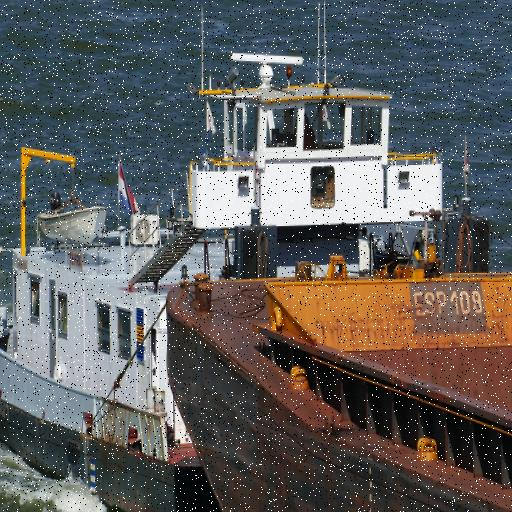tugboat: (1, 1, 503, 512)
